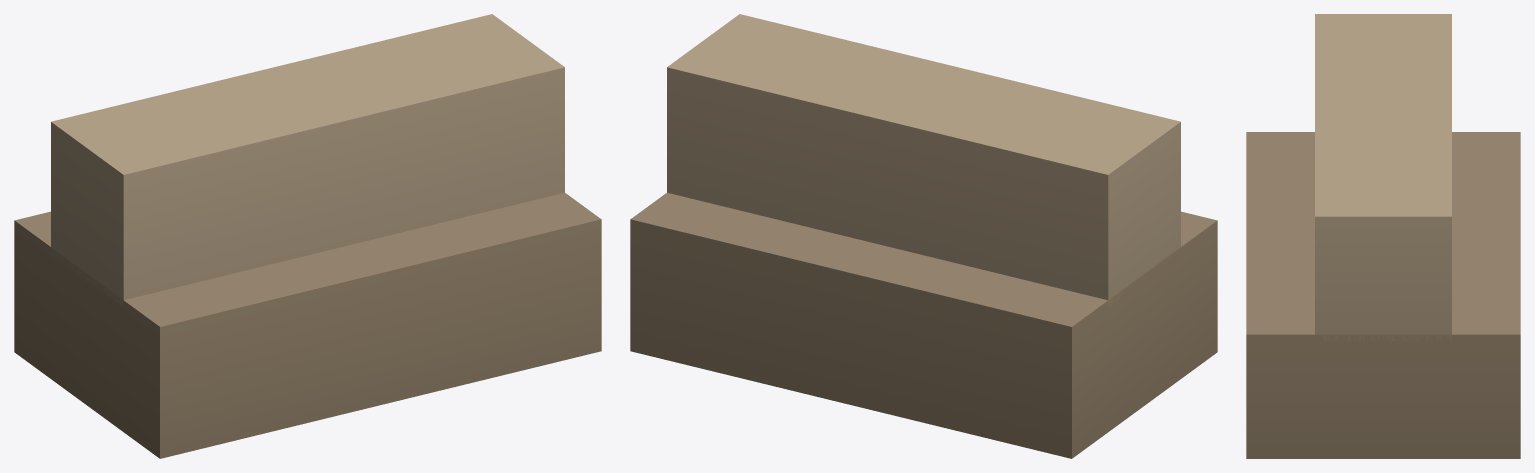
File: log_pile.glb
3 renders of one model, left to right at view 1: azimuth 30°, elevation 25°; view 2: azimuth 150°, elevation 25°; view 3: azimuth 270°, elevation 25°, orthographic. The views are drawn at different scales.
Parts seen in each view (by area): view 1: root; view 2: root; view 3: root.
Part boxes in pixels (x1,y1,x2,y2): root: [14, 14, 601, 458]; root: [630, 14, 1217, 458]; root: [1246, 14, 1520, 458].
Bounding box in the file's own units: 1.4 × 0.78 × 0.8.
